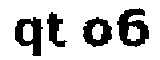6: (116, 6, 151, 50)
o: (80, 19, 112, 49)
q: (11, 17, 42, 60)
t: (45, 11, 69, 53)
